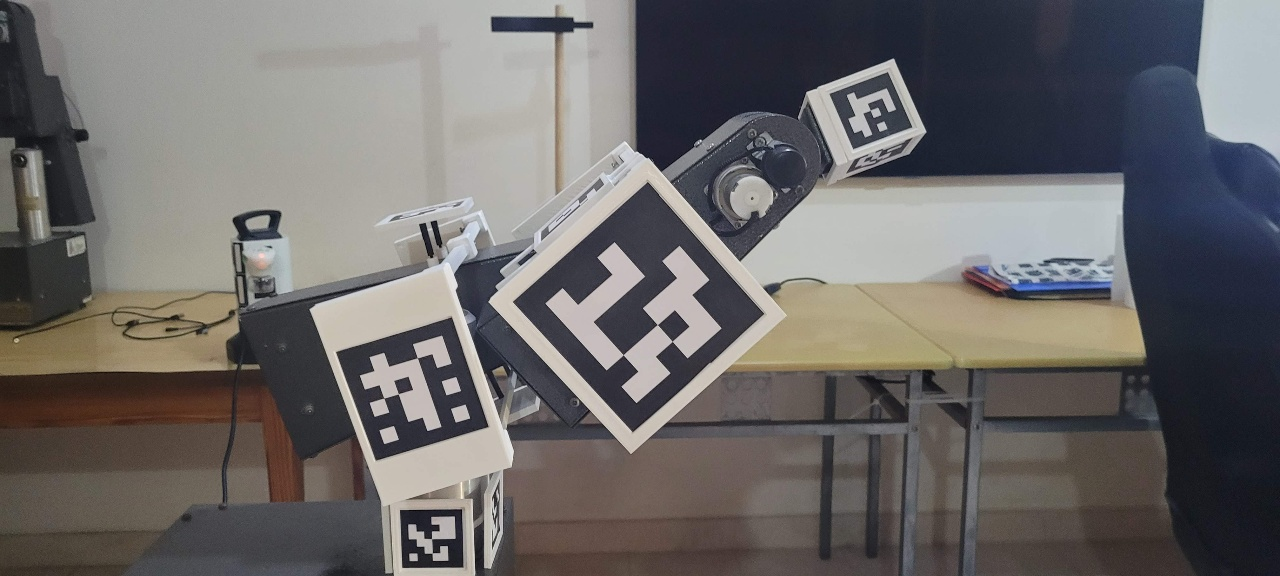Robot: (237, 54, 929, 576)
